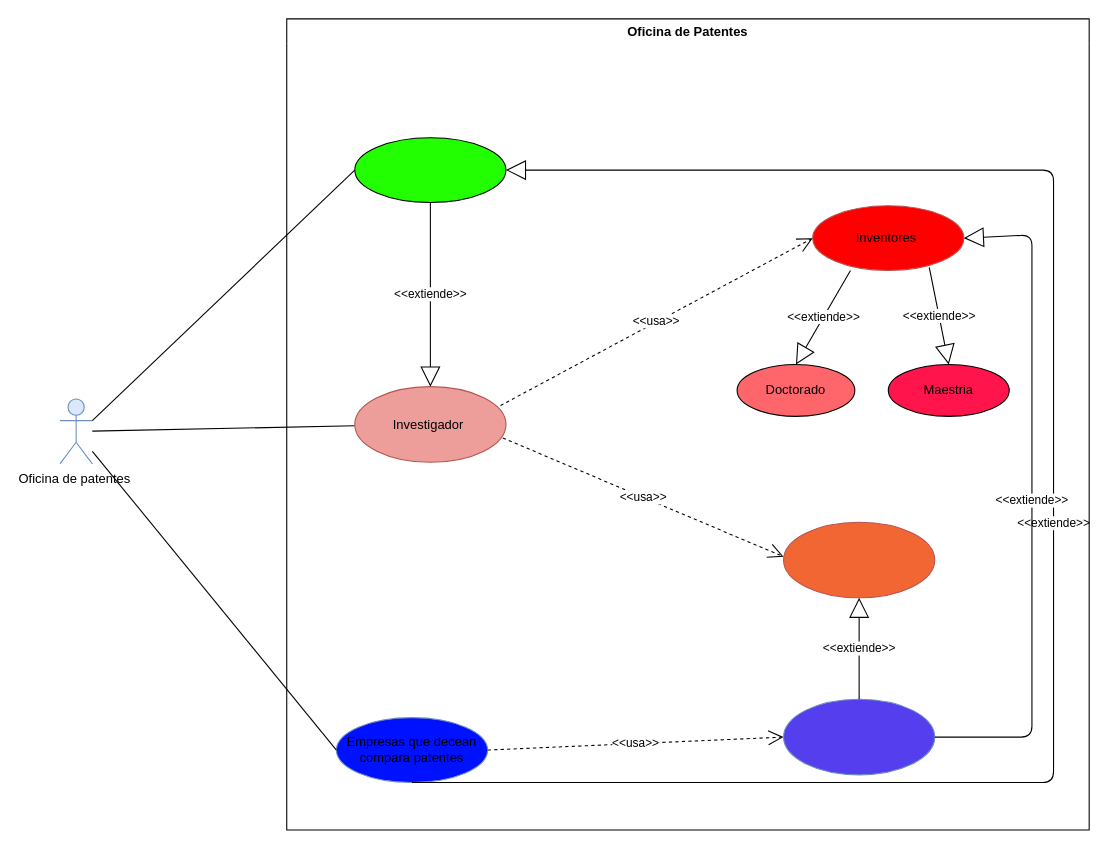
The diagram is 1108 pixels wide and 849 high, and some of its shapes have lost their labels. Each missing label, with the centre of its shape:
"Ayudantes" belongs at (x=858, y=559).
"Contratar" belongs at (x=858, y=736).
"Patentes" belongs at (x=430, y=169).
